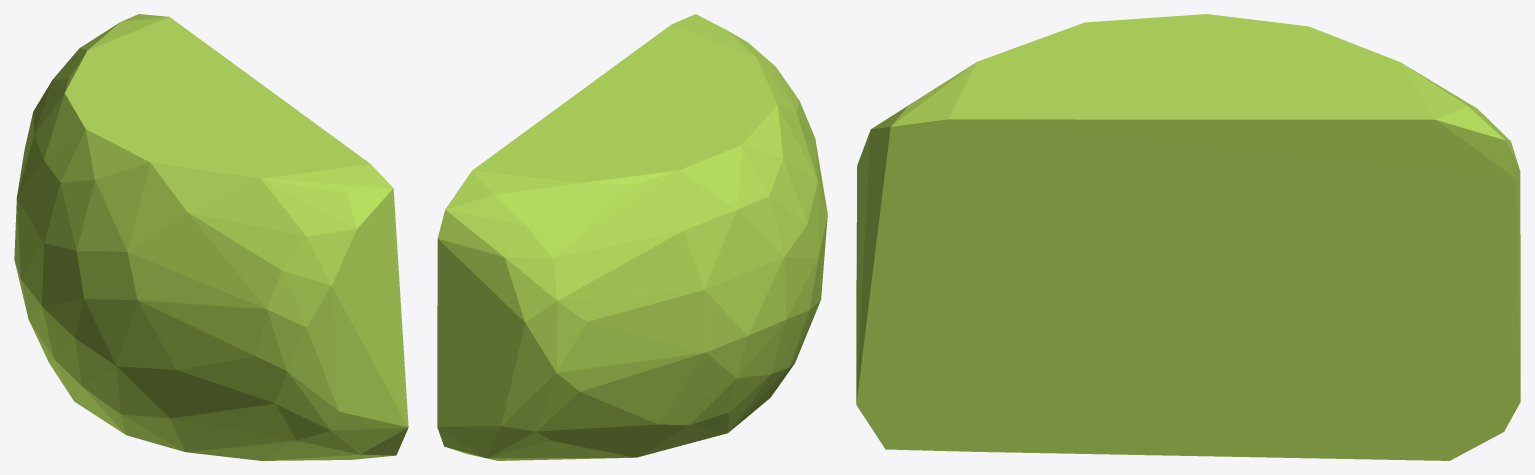
The model's file is dvkr_robot_L1_respondable_PSM1_coll_1.dae.
The picture shows the model from 3 angles, left to right: view 1: azimuth 30°, elevation 25°; view 2: azimuth 150°, elevation 25°; view 3: azimuth 270°, elevation 25°; orthographic projection. The views are drawn at different scales.
Parts seen in each view (by area): view 1: Node_0000023514CD9290; view 2: Node_0000023514CD9290; view 3: Node_0000023514CD9290.
Part boxes in pixels (<box>): Node_0000023514CD9290: <box>14,14,408,460</box>; Node_0000023514CD9290: <box>437,14,827,460</box>; Node_0000023514CD9290: <box>856,14,1520,460</box>.
Size of the model in its own units: 0.1428 by 0.1731 by 0.3049.
